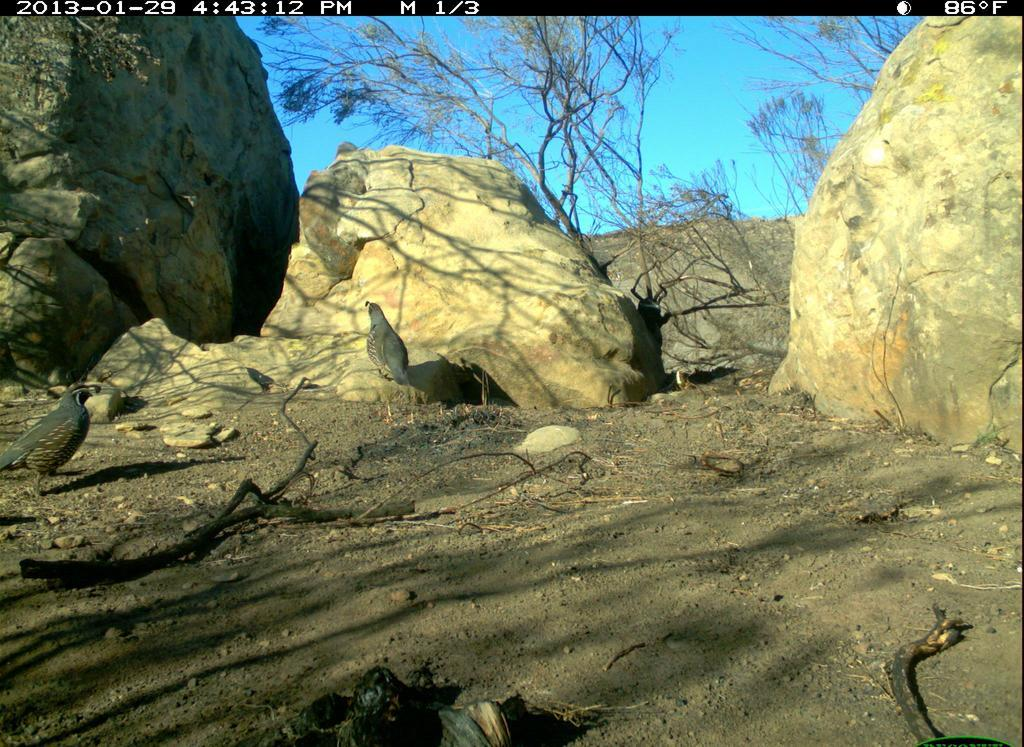bird: (2, 383, 104, 503), (361, 295, 420, 399)
